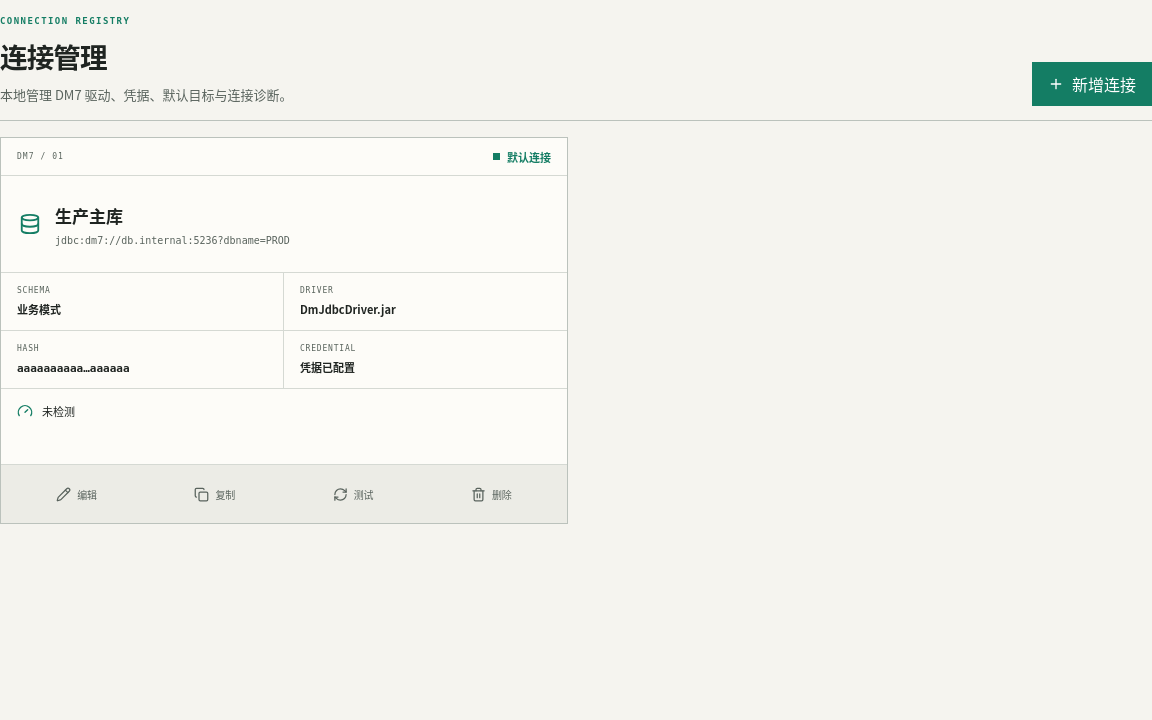
ConnectionsPage › copy requires safe fields to be re-entered and diagnostics are debounced without rewriting input
Click the button with aria-label "复制生产主库". click: click(215, 494)
box: [146,472,284,516]
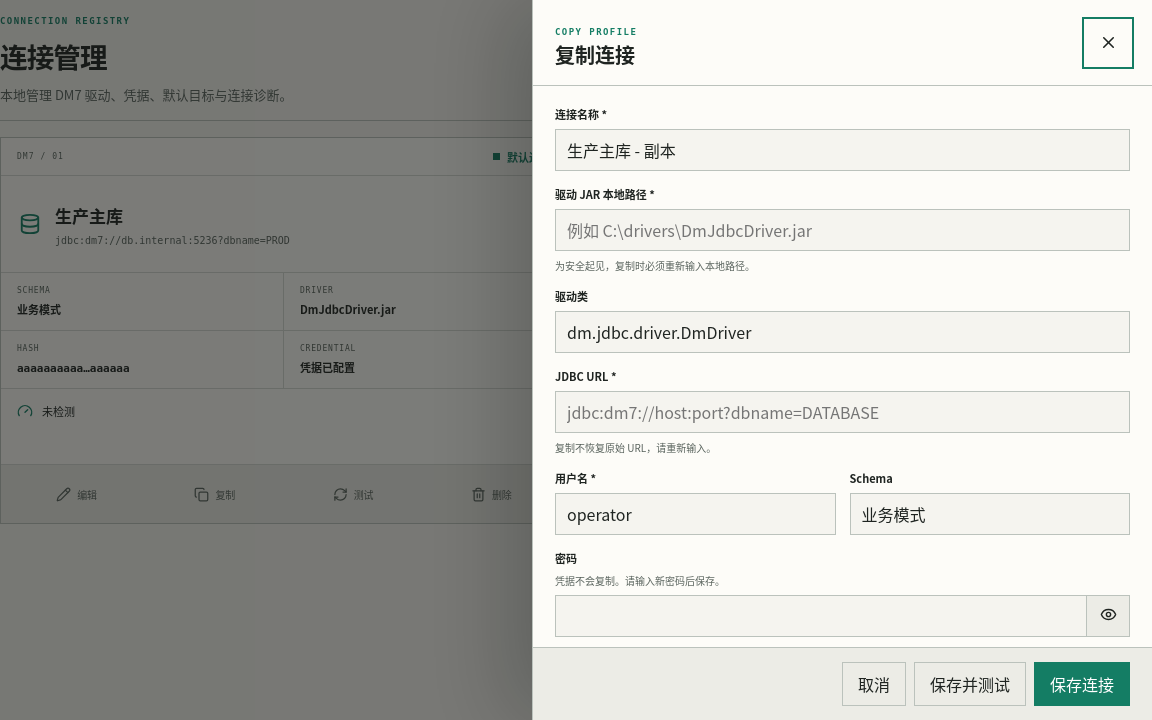
expect the field labelled "连接名称 *" holds "生产主库 - 副本": met, box [555,129,1130,171]
expect the field labelled "驱动 JAR 本地路径 *" is empty: met, box [555,209,1130,251]
expect the field labelled "JDBC URL *" is empty: met
Type "jdbc:dm7://host:5236/SYSTEM" into the field labelled "JDBC URL *". click: (842, 412)
box: [555,391,1130,433]
Wait 450 ms
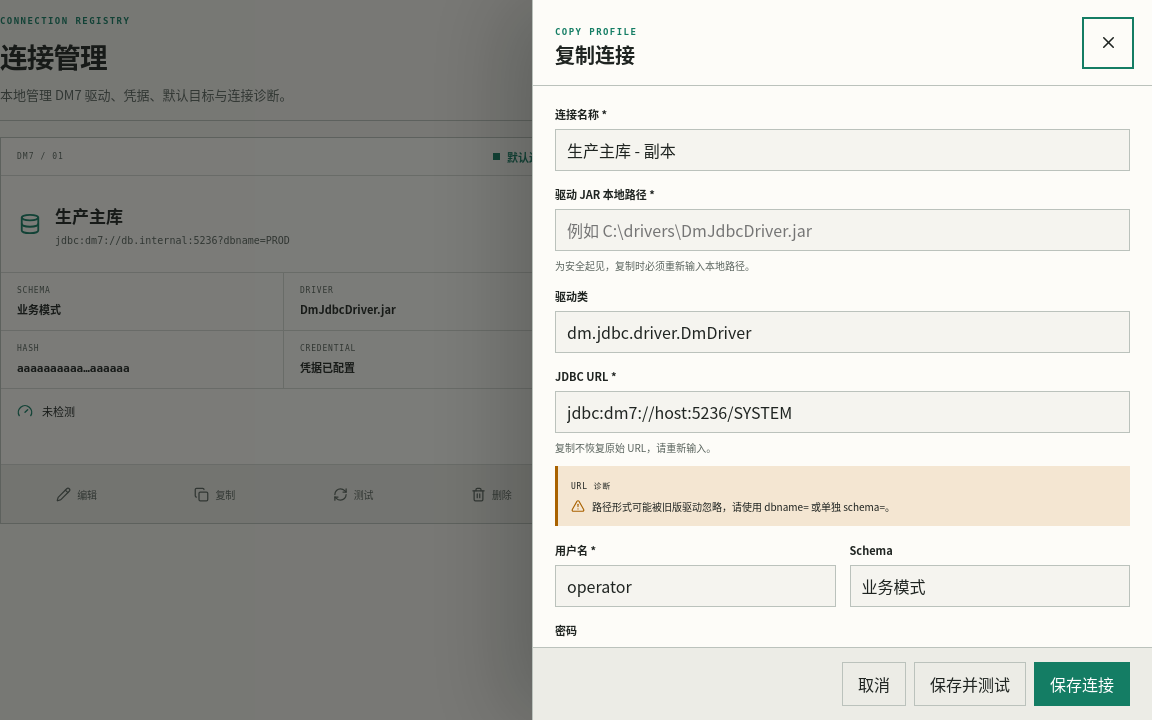
expect the text "路径形式可能被旧版驱动忽略，请使用 dbname= 或单独 schema=。" is shown: met, box [571,499,895,514]
